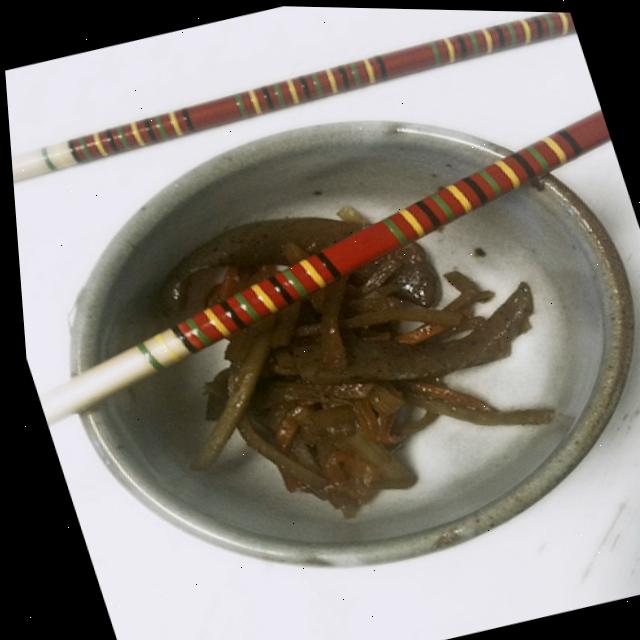蔬菜料理: (1, 19, 640, 633)
